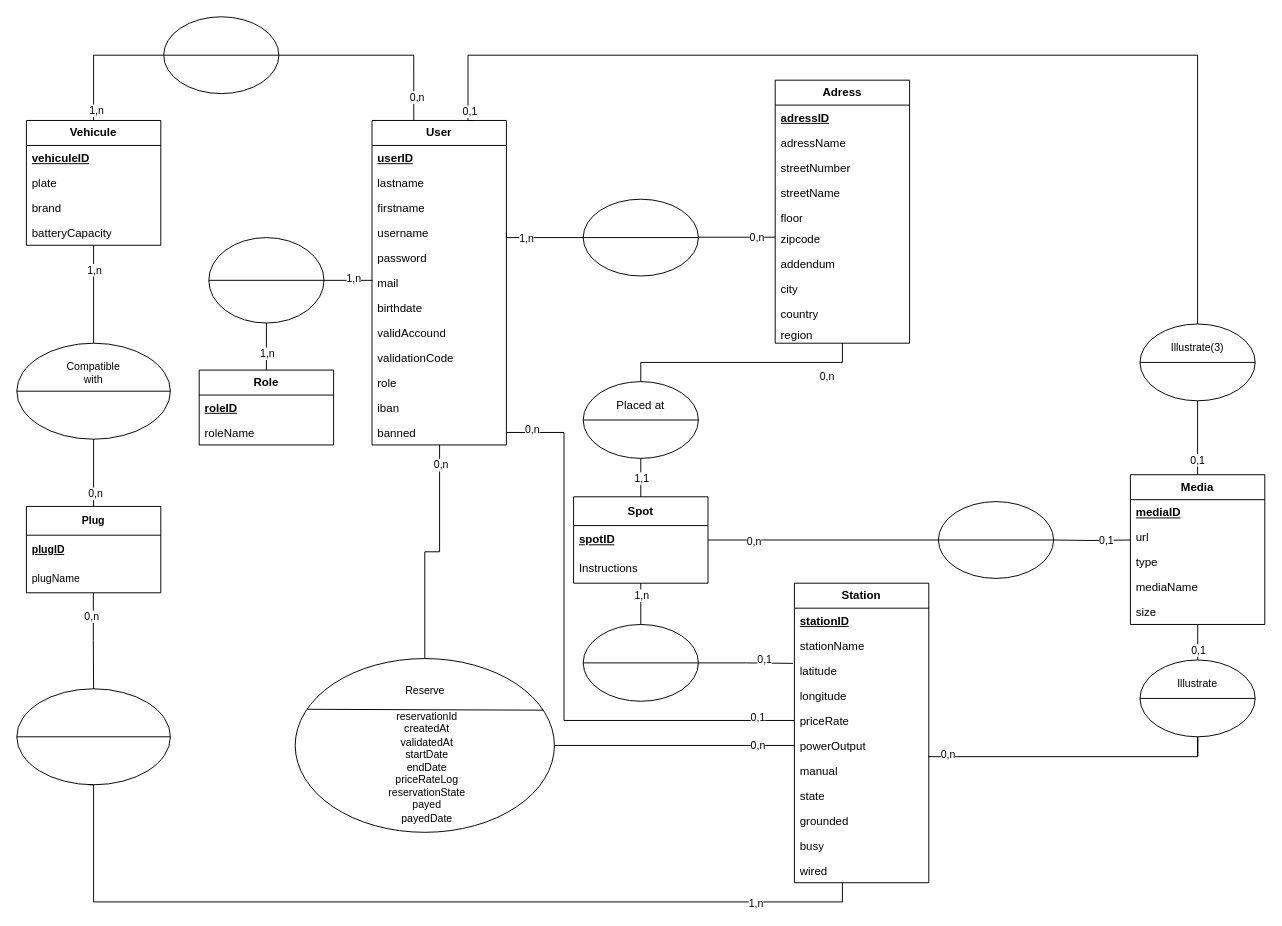
Some shapes in this 1282 by 926 pixel diagram are drawn without their labels. The centre of each missing label's shape, as x and y in pixels:
"Compatible with (2)" goes at (93,736).
"Contain" goes at (640,662).
"Have permissions" goes at (266,280).
"Illustrate(2)" goes at (995,539).
"Inhabit" goes at (640,237).
"Own" goes at (221,55).
